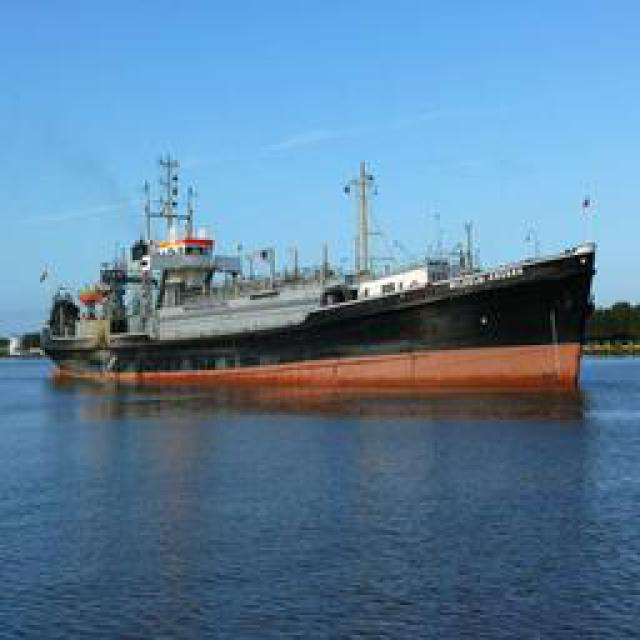Ship: (36, 154, 594, 384)
